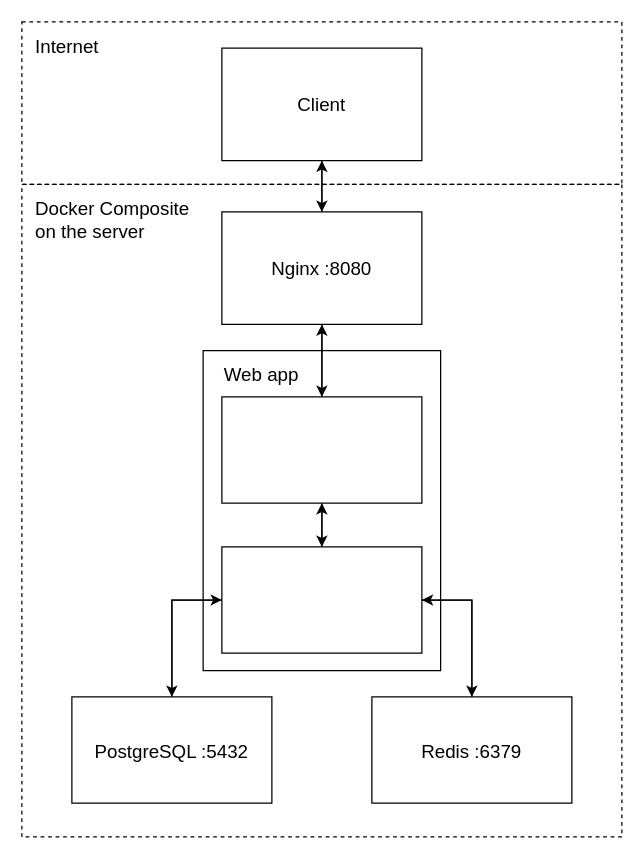
Image size: 644x859. Some labels were removed from this diagram. The shapes that lost their labels are listed below. From the top down, each one's box as (x1, y1, x2, y2) in pixels, then its label:
(221, 396, 422, 503): Gunicorn :5000
(221, 546, 422, 653): Flask API
